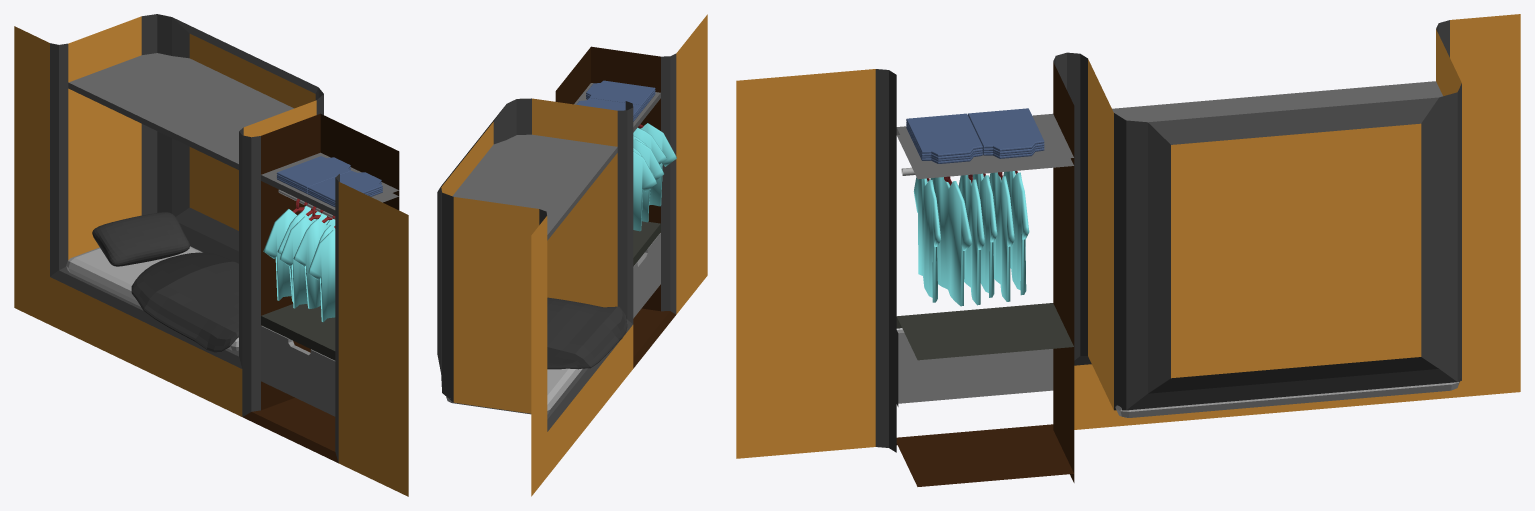
Rendered from Bed 2.fbx.
The picture shows the model from 3 angles, left to right: view 1: azimuth 30°, elevation 25°; view 2: azimuth 150°, elevation 25°; view 3: azimuth 270°, elevation 25°; orthographic projection. The views are drawn at different scales.
Parts seen in each view (by area): view 1: Cube; view 2: Cube; view 3: Cube.
Part boxes in pixels (left/top/right/bottom): Cube: left=14, top=14, right=408, bottom=496; Cube: left=437, top=14, right=707, bottom=496; Cube: left=736, top=14, right=1520, bottom=486.
Bounding box in the file's own units: 149 × 235 × 442.
